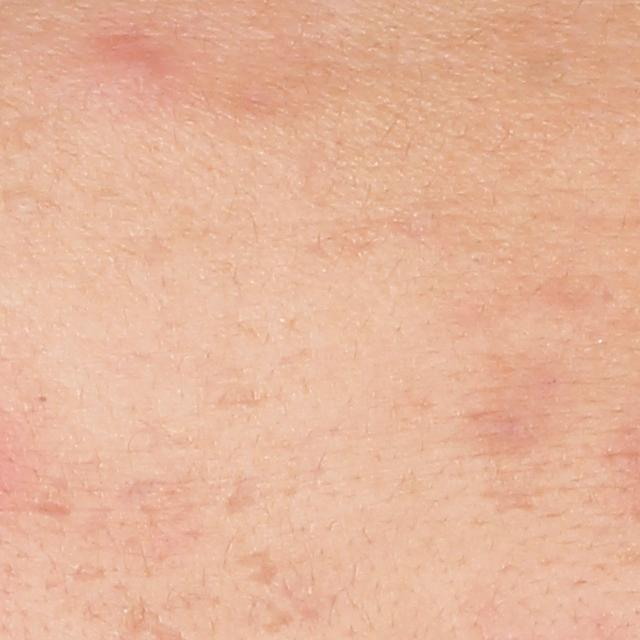atrophic_scar: (482, 480, 559, 515), (239, 540, 286, 589), (18, 497, 80, 526), (222, 477, 262, 519), (257, 602, 299, 636), (67, 557, 106, 582)
comedo: (13, 193, 39, 214), (33, 392, 50, 403)
